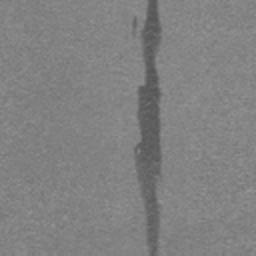Red iron sheet: (134, 0, 162, 256)
